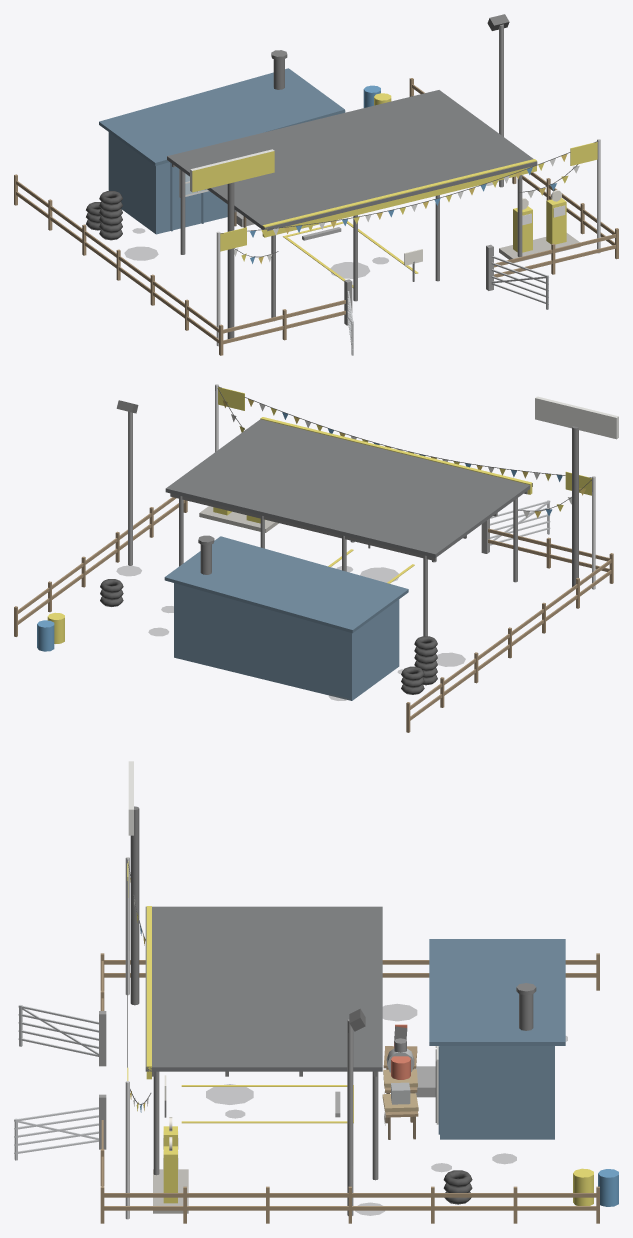
Rendered from severn_performance.glb.
3 renders of one model, top to bottom at view 1: azimuth 30°, elevation 25°; view 2: azimuth 150°, elevation 25°; view 3: azimuth 270°, elevation 25°, orthographic. The views are drawn at different scales.
Size of the model in its own units: 16.12 by 6.7 by 16.85.
